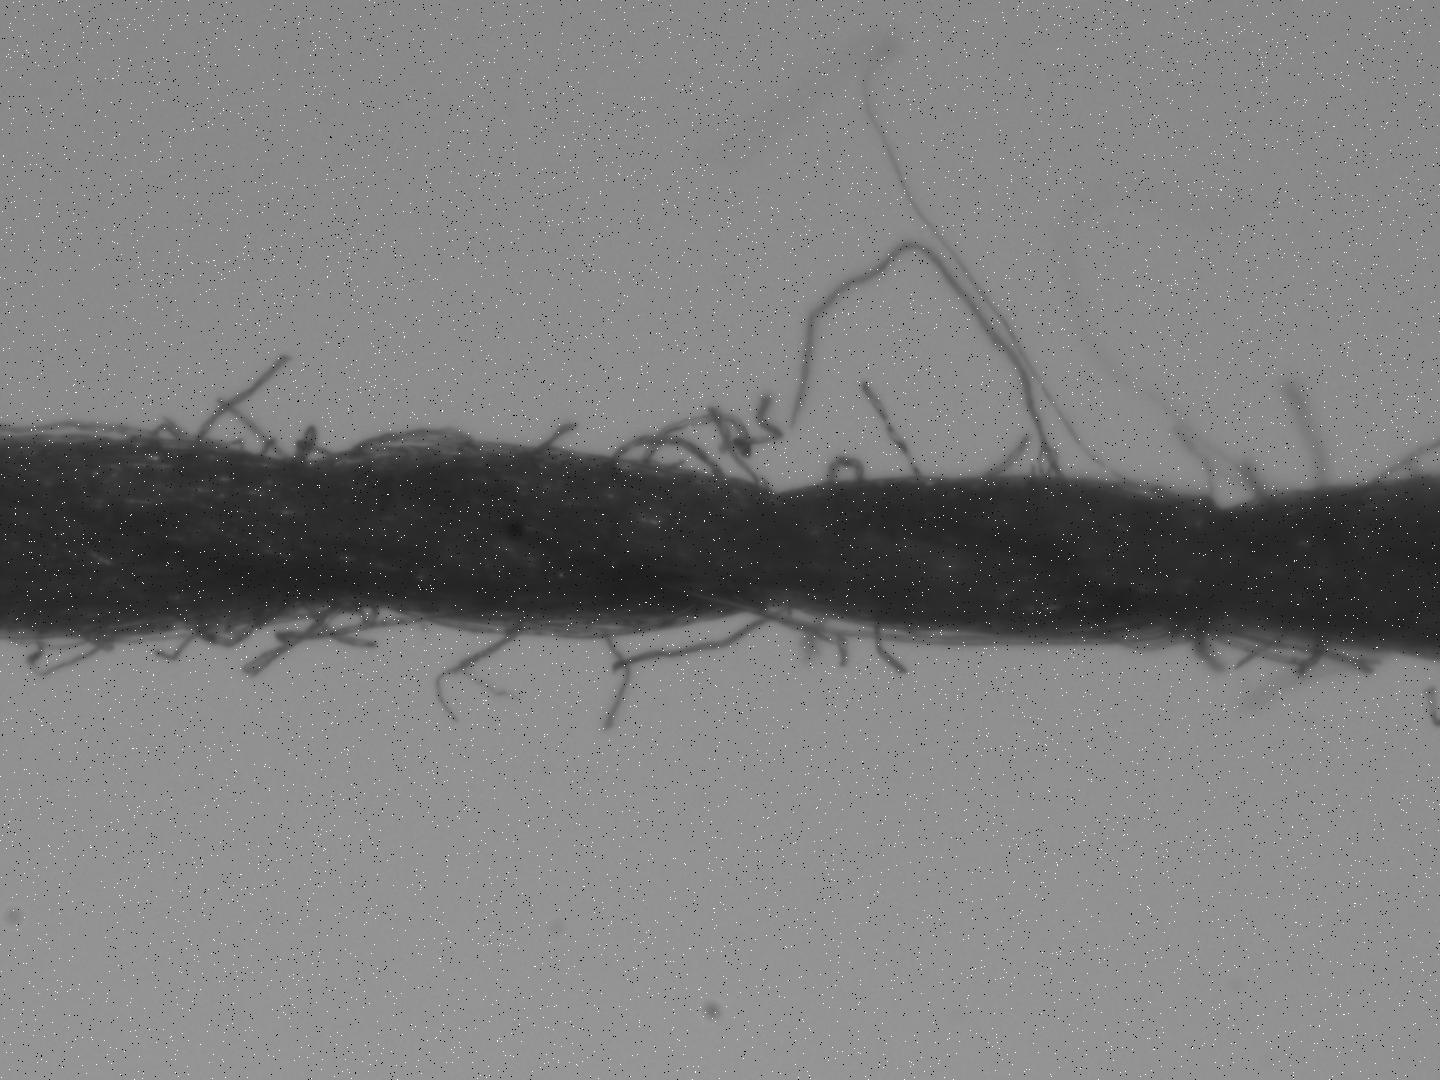loop_fiber: (763, 602, 1027, 646), (407, 608, 686, 640), (338, 424, 478, 465), (611, 437, 725, 484), (22, 626, 112, 678), (194, 609, 279, 655), (1121, 621, 1196, 652), (151, 415, 196, 440), (830, 458, 863, 486)
protruding_fiber: (859, 385, 929, 484)
